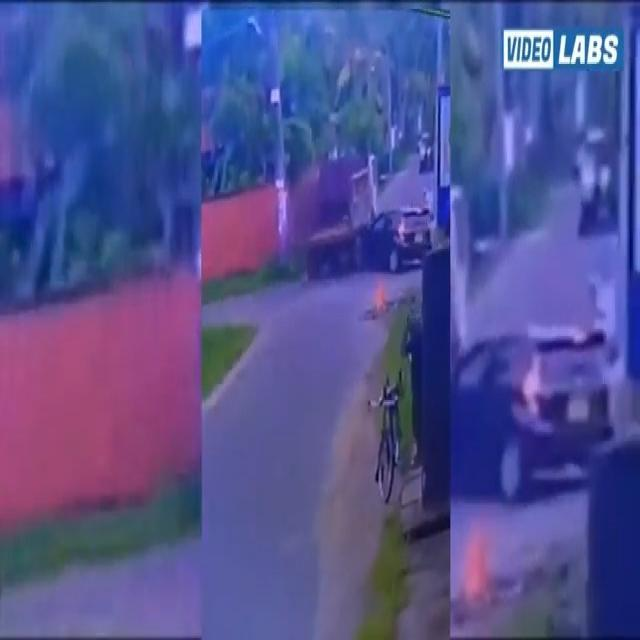multiple_accident: (281, 136, 434, 277)
